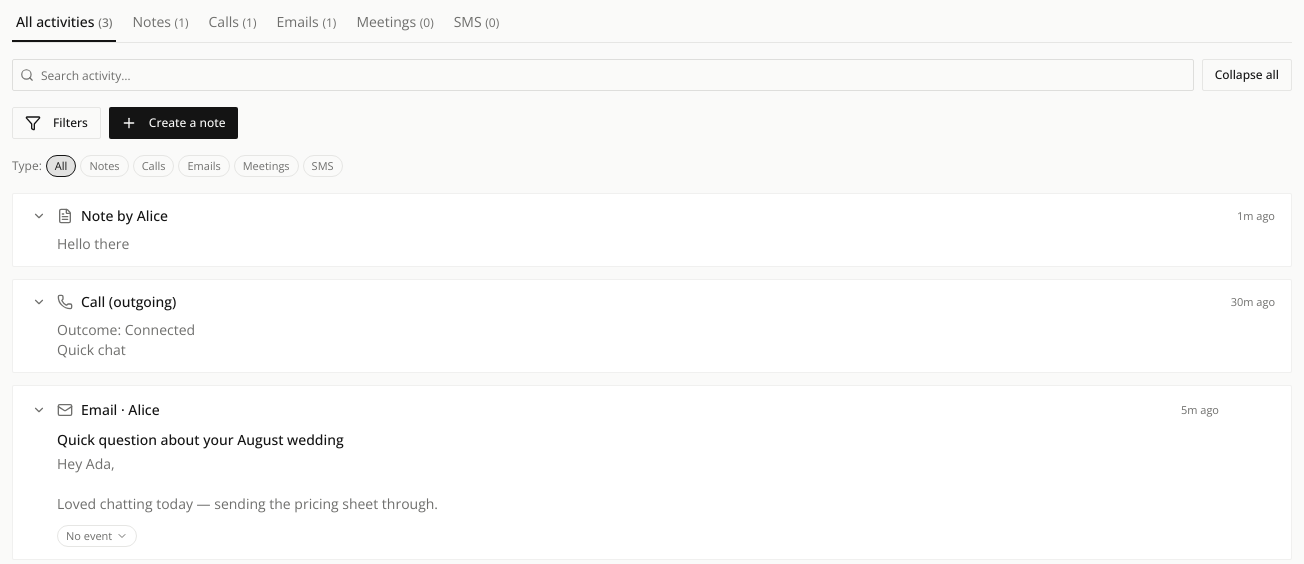
Test: ContactActivityFeed › P-email-log — logged email surfaces under the Emails sub-tab with the mockup header + subject + body
Click the tab "Emails (1)" at [306, 27], box left=272, top=12, right=340, bottom=42
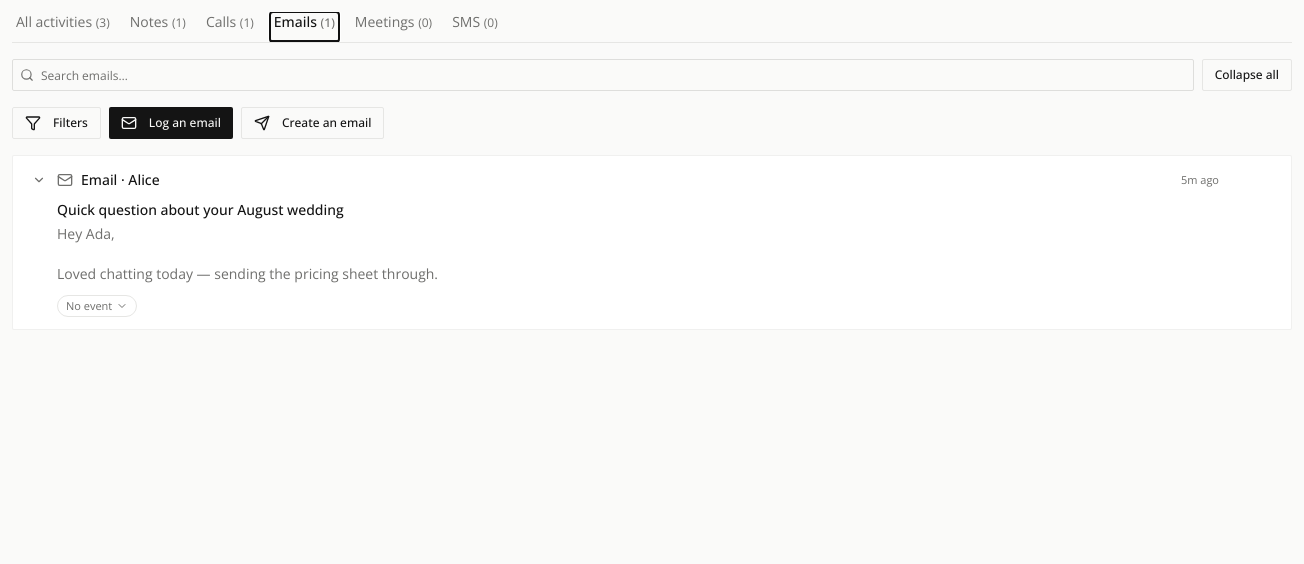
Check: the heading "Email · Alice" is shown, box left=81, top=170, right=160, bottom=189
Check: the heading "Note by Alice" is gone
Check: the heading "Call (outgoing)" is gone
